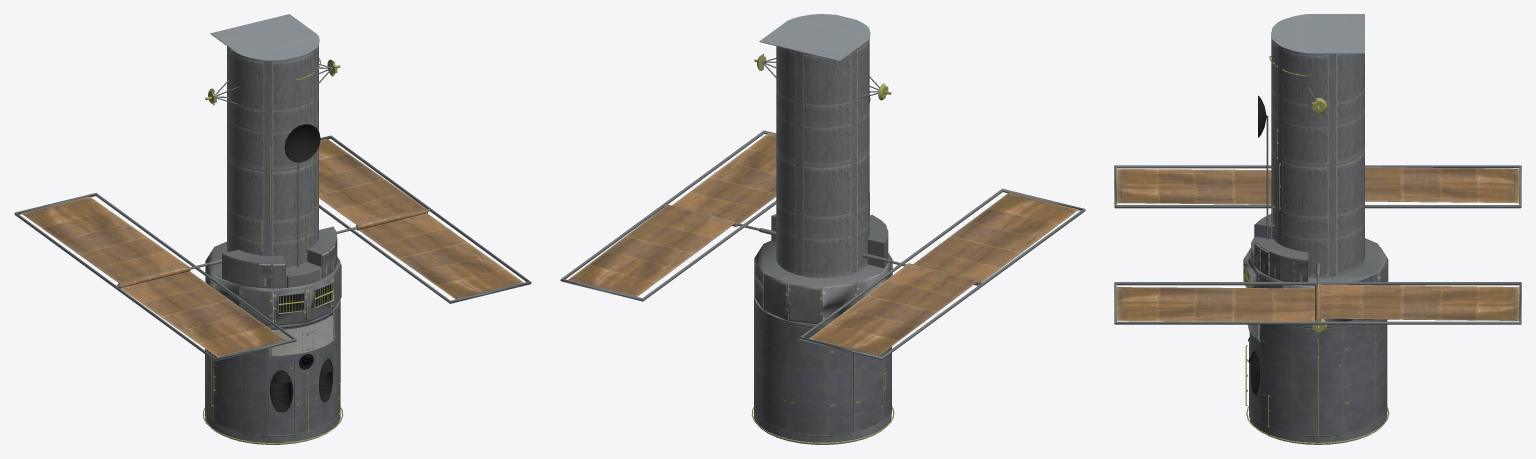
The model's file is hubble.glb.
3 renders of one model, left to right at view 1: azimuth 30°, elevation 25°; view 2: azimuth 150°, elevation 25°; view 3: azimuth 270°, elevation 25°, orthographic.
Parts seen in each view (by area): view 1: hst; view 2: hst; view 3: hst.
Part boxes in pixels (bbox=[...]): hst: bbox=[14, 14, 531, 444]; hst: bbox=[560, 14, 1085, 444]; hst: bbox=[1114, 14, 1521, 444].
Size of the model in its own units: 458 by 525 by 501.
Materials: 5 (5 with a texture image).
